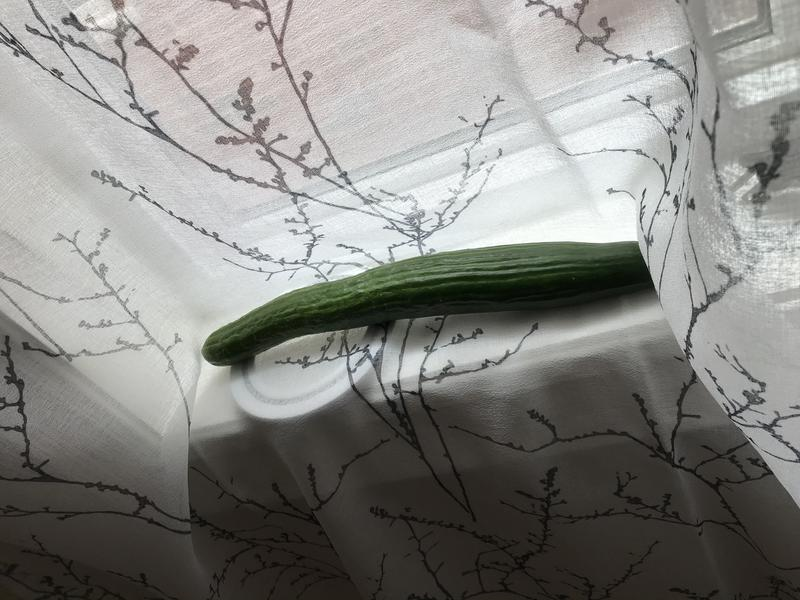cucumber: (181, 235, 700, 377)
